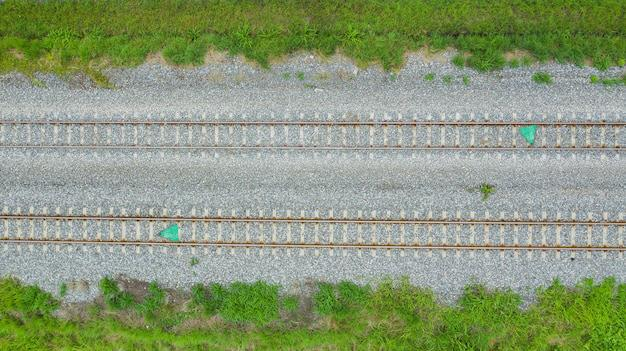Dust_screen: (159, 221, 178, 248), (518, 123, 539, 147)
